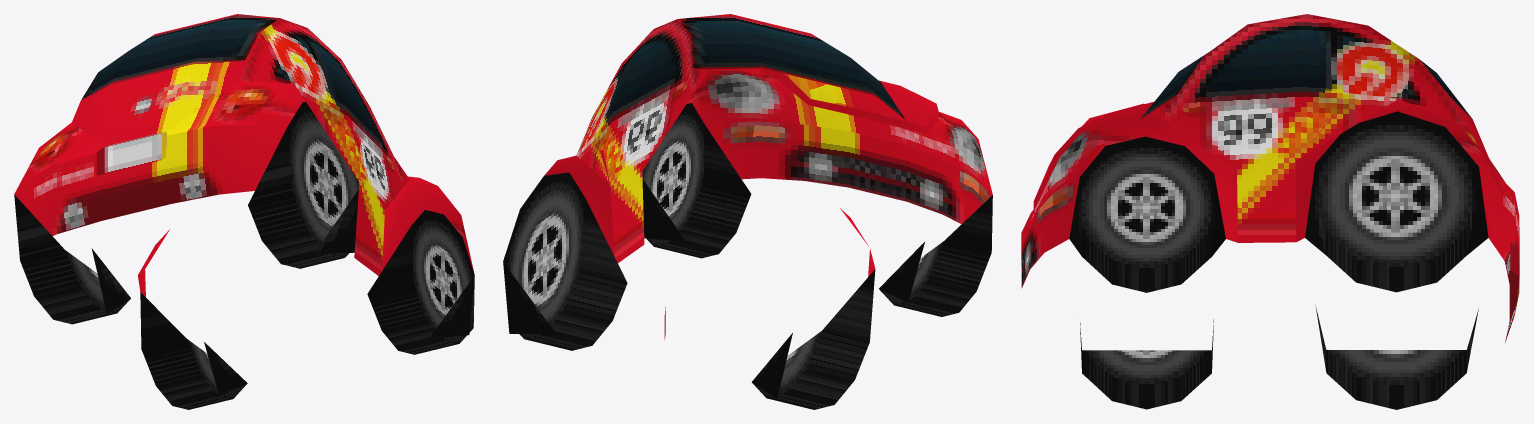
File: ps2_save-icons_gadgetracers-gamedata.glb
3 views of the same model, side by side, from view 1: azimuth 30°, elevation 25°; view 2: azimuth 150°, elevation 25°; view 3: azimuth 270°, elevation 25° (orthographic). The views are drawn at different scales.
Parts seen in each view (by area): view 1: static.ico; view 2: static.ico; view 3: static.ico.
Part boxes in pixels (x1,y1,x2,y2): static.ico: (14, 14, 474, 409); static.ico: (503, 14, 992, 409); static.ico: (1021, 14, 1519, 409).
Bounding box in the file's own units: 2.96 × 2.91 × 4.43.
1 material, 1 textured.
